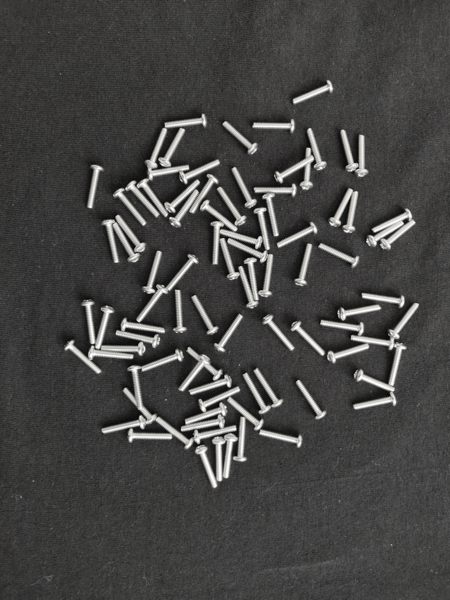longscrew: (117, 384, 158, 423), (153, 415, 195, 450), (64, 342, 104, 377), (188, 173, 218, 218), (134, 284, 170, 320), (276, 153, 314, 187), (263, 316, 296, 355), (220, 122, 259, 155), (193, 292, 223, 334), (165, 178, 200, 214), (117, 212, 146, 254), (115, 186, 144, 228), (253, 371, 285, 409), (239, 376, 271, 414), (293, 321, 325, 359), (172, 185, 199, 230), (180, 352, 208, 394), (316, 242, 358, 270), (215, 314, 247, 350), (202, 201, 239, 232), (189, 376, 233, 402), (113, 223, 140, 265), (391, 302, 423, 337), (218, 185, 246, 225), (277, 222, 317, 250), (141, 180, 169, 219), (296, 383, 328, 417), (190, 346, 221, 381), (130, 183, 158, 221), (184, 159, 222, 187), (166, 255, 199, 287), (201, 388, 240, 415), (374, 208, 412, 235), (95, 307, 118, 351), (326, 190, 354, 226), (381, 223, 418, 250), (369, 219, 406, 246), (229, 419, 252, 461), (205, 222, 228, 264), (207, 438, 229, 481), (221, 436, 243, 479), (220, 239, 242, 282), (241, 259, 263, 302), (293, 244, 315, 287), (253, 207, 275, 250), (263, 195, 285, 238), (293, 80, 334, 103), (195, 448, 217, 490), (235, 266, 257, 308), (257, 254, 279, 296), (388, 342, 409, 386), (233, 167, 255, 208), (327, 344, 376, 362), (353, 373, 402, 391), (251, 115, 300, 133), (160, 112, 209, 130), (125, 428, 174, 446), (182, 417, 231, 435), (309, 124, 327, 173), (301, 144, 319, 193), (84, 162, 102, 211), (103, 217, 121, 266), (182, 405, 230, 423), (193, 424, 241, 442), (149, 162, 189, 183), (145, 247, 162, 294), (342, 190, 361, 232), (140, 353, 184, 371), (259, 432, 307, 448), (351, 395, 399, 411), (361, 289, 409, 305), (147, 132, 167, 170), (162, 130, 182, 168), (338, 305, 385, 321), (251, 182, 300, 197), (348, 334, 396, 349), (318, 320, 365, 335), (89, 348, 133, 364), (100, 341, 144, 357), (118, 332, 162, 348), (171, 286, 185, 335), (122, 320, 166, 335), (101, 417, 145, 432), (342, 128, 355, 175), (358, 131, 371, 178), (130, 368, 143, 407), (85, 297, 94, 345)
